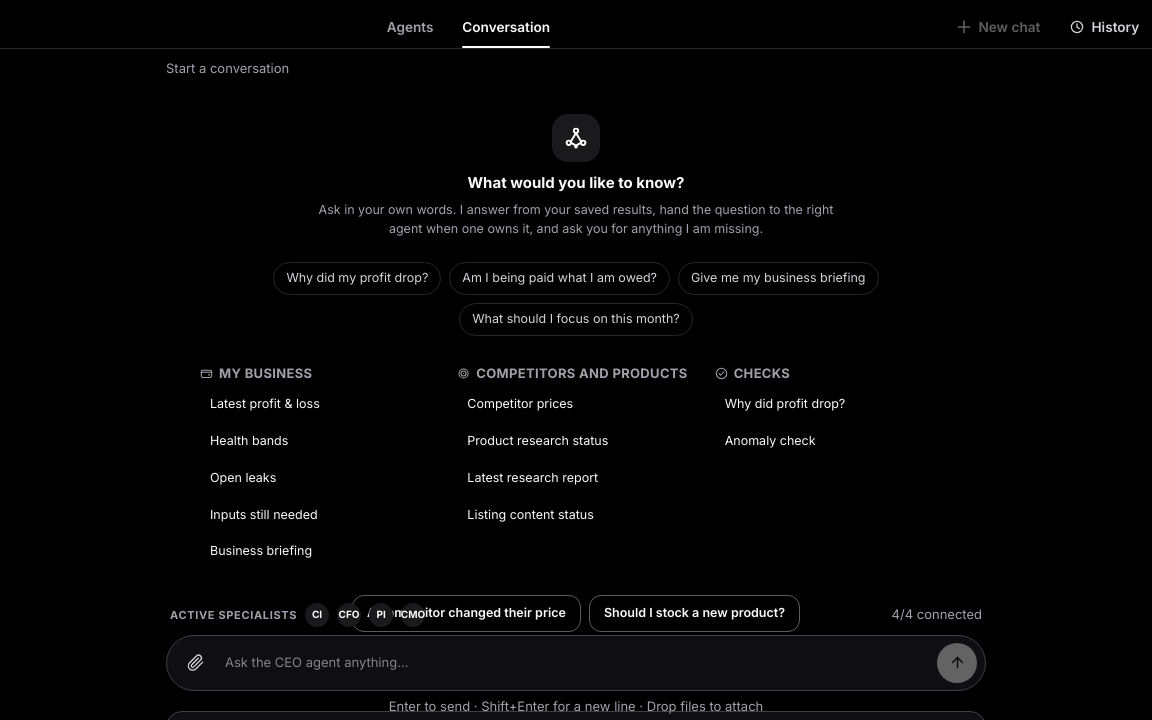
it: follow-up lookup steps › shows who asked whom for what and the outcome in plain words (REUSED)
Click the button with test id "open-drawer".
click(1104, 27)  # box left=1056, top=8, right=1151, bottom=46
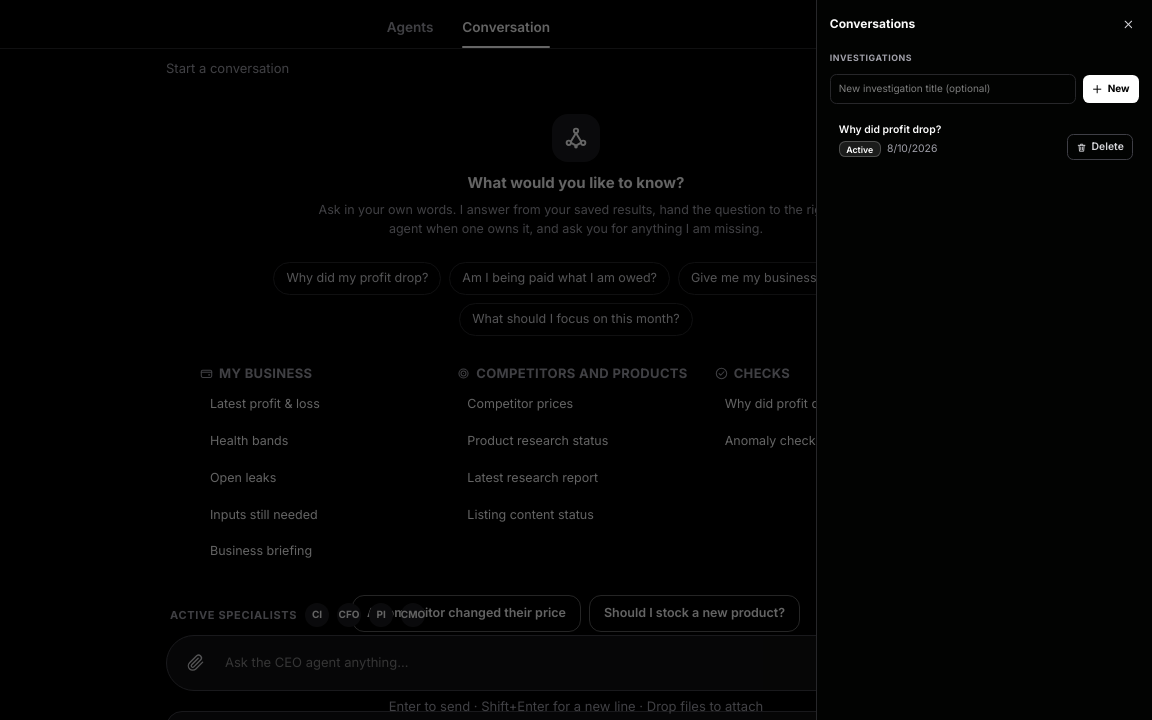
Click the button "Why did profit drop? Active 8/10/2026".
click(890, 130)  # box left=830, top=113, right=1139, bottom=166
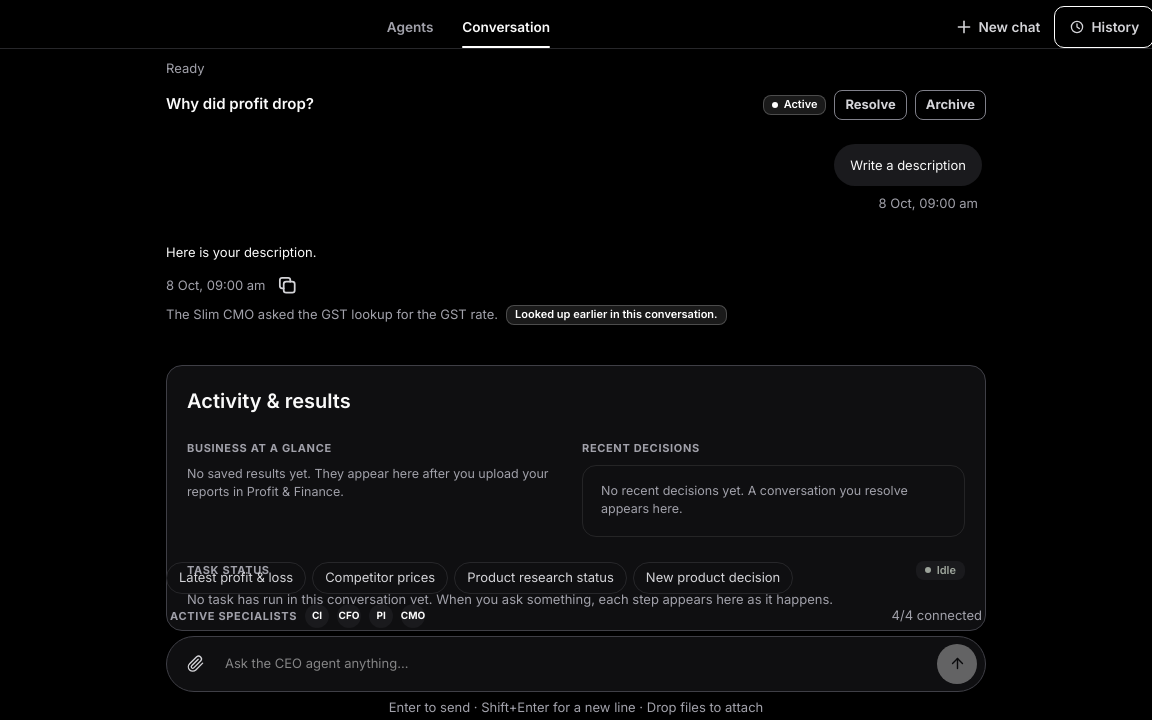
Check: the element with test id "conversation" is shown, box left=166, top=90, right=986, bottom=353
Check: the list item with test id "need-step-n1" shows "The Slim CMO asked the GST lookup for the GST rate.", box left=166, top=306, right=498, bottom=322
Check: the text "Looked up earlier in this conversation." is shown, box left=506, top=305, right=727, bottom=325
